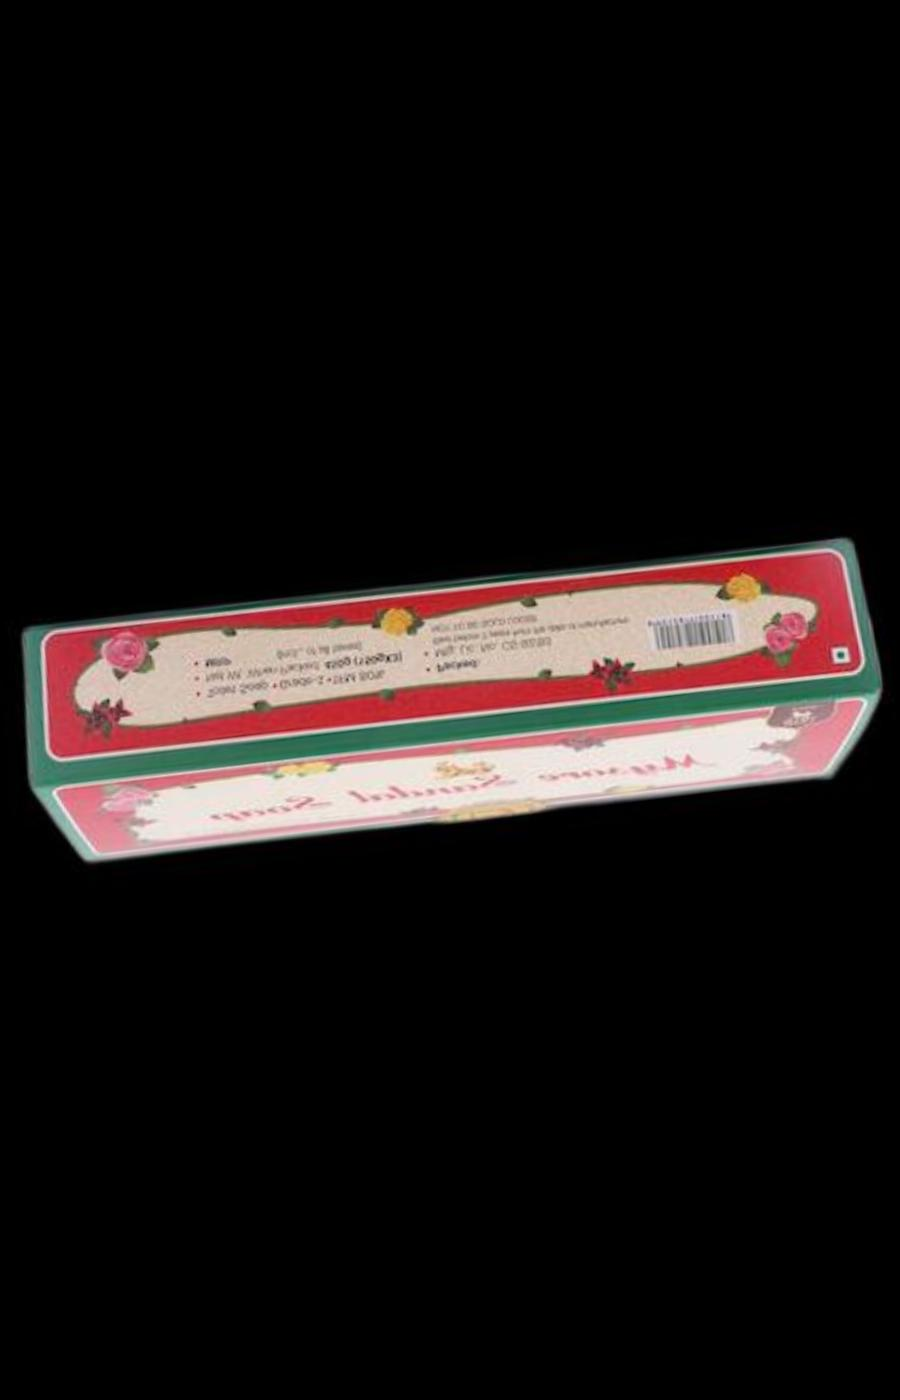Mysore Sandal Soap 150 g -Pack of 3-: (11, 524, 887, 873)
